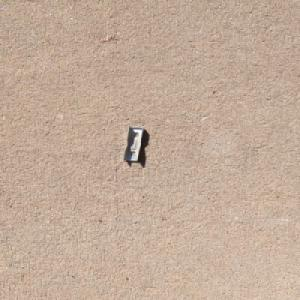ClampPart: (121, 125, 146, 162)
